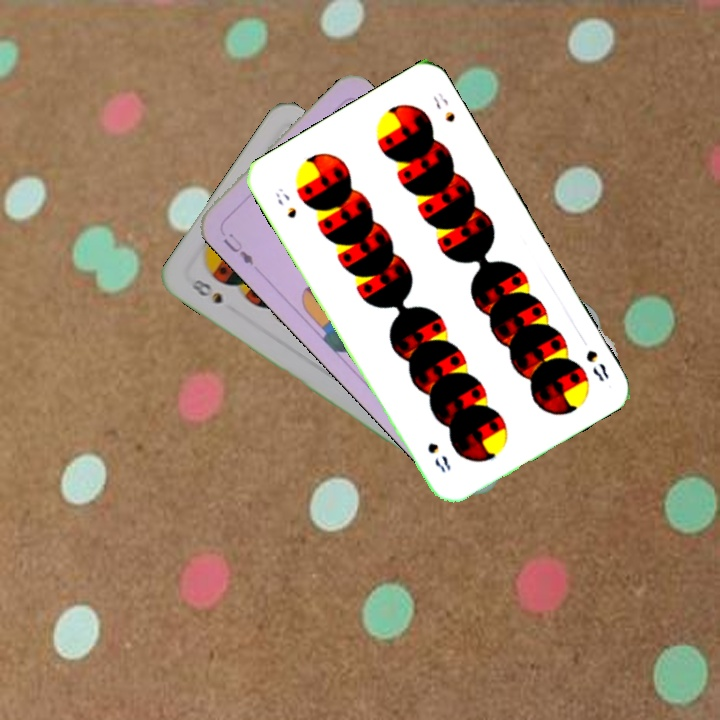EU: (219, 229, 256, 268)
S8: (581, 345, 612, 385), (187, 275, 225, 307), (271, 184, 300, 221)
